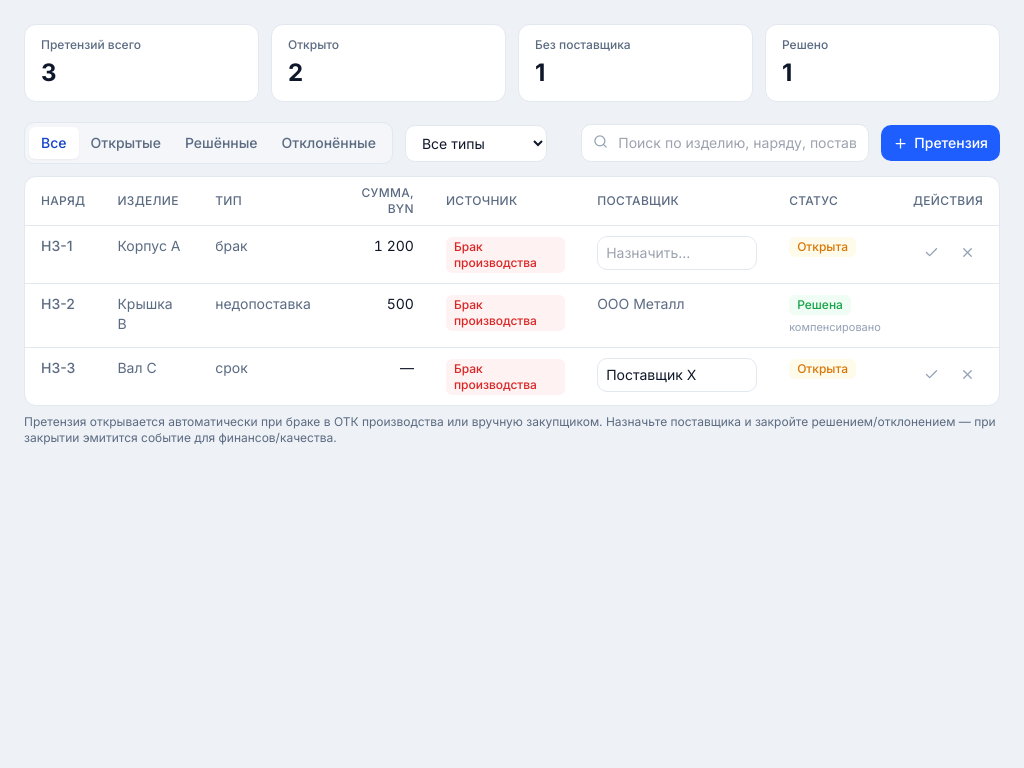
Test case: ClaimsPanel › сбой создания показывает ошибку и не закрывает дровер
Click the button "Претензия": (941, 143) [881, 125, 1000, 161]
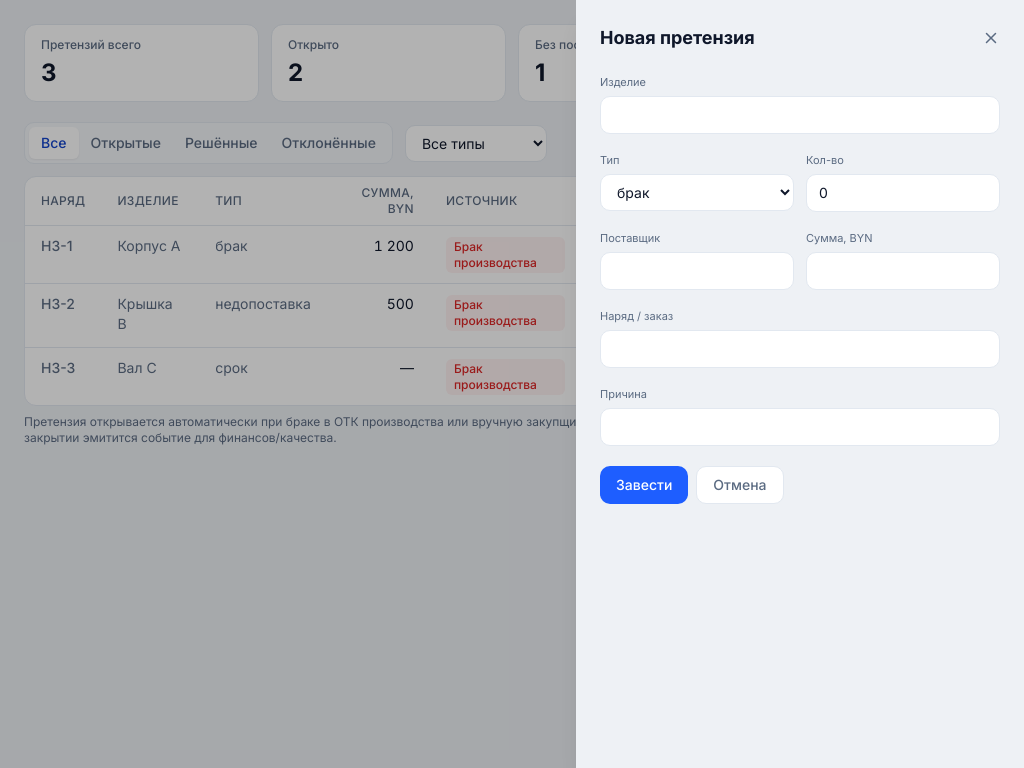
Click the button "Завести": (644, 485) [600, 466, 688, 504]
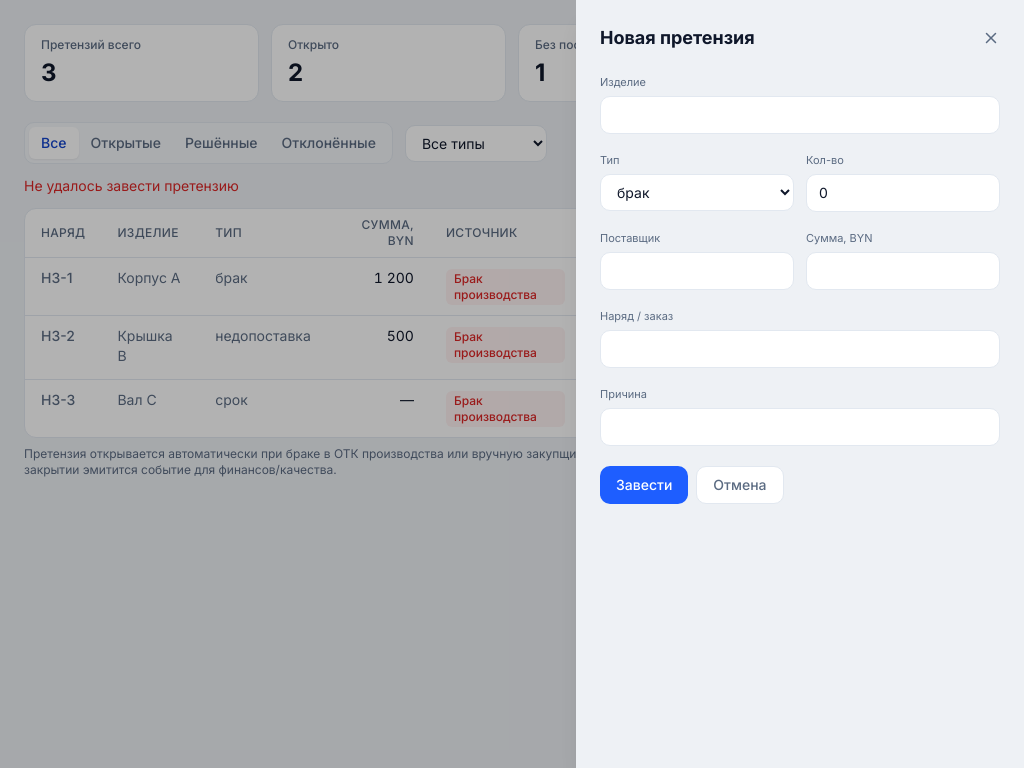
Expected: the heading "Новая претензия" is shown, [600, 24, 755, 52]
Expected: the text "Не удалось завести претензию" is shown, [24, 177, 239, 194]
